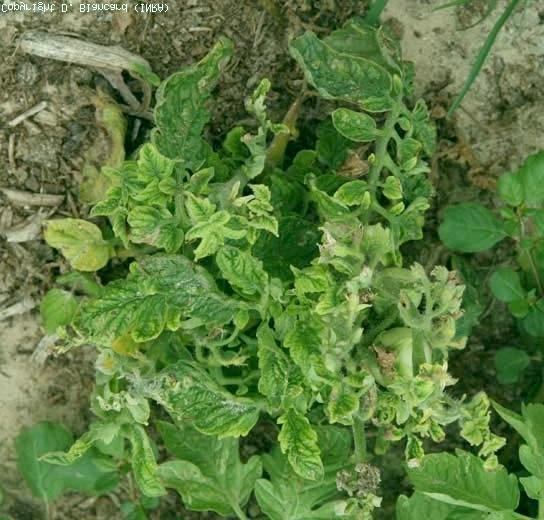Tomato leaf yellow virus: (63, 267, 191, 343), (167, 352, 263, 436), (151, 40, 222, 135), (278, 302, 336, 375), (213, 244, 275, 296), (283, 402, 323, 479), (325, 97, 387, 145), (133, 137, 181, 189), (290, 258, 344, 287), (330, 176, 376, 205), (382, 175, 411, 205), (187, 191, 213, 224)
